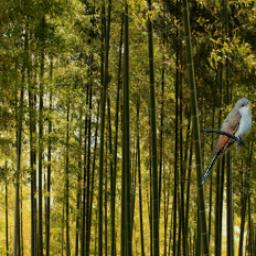Cuckoo: (201, 98, 253, 186)
